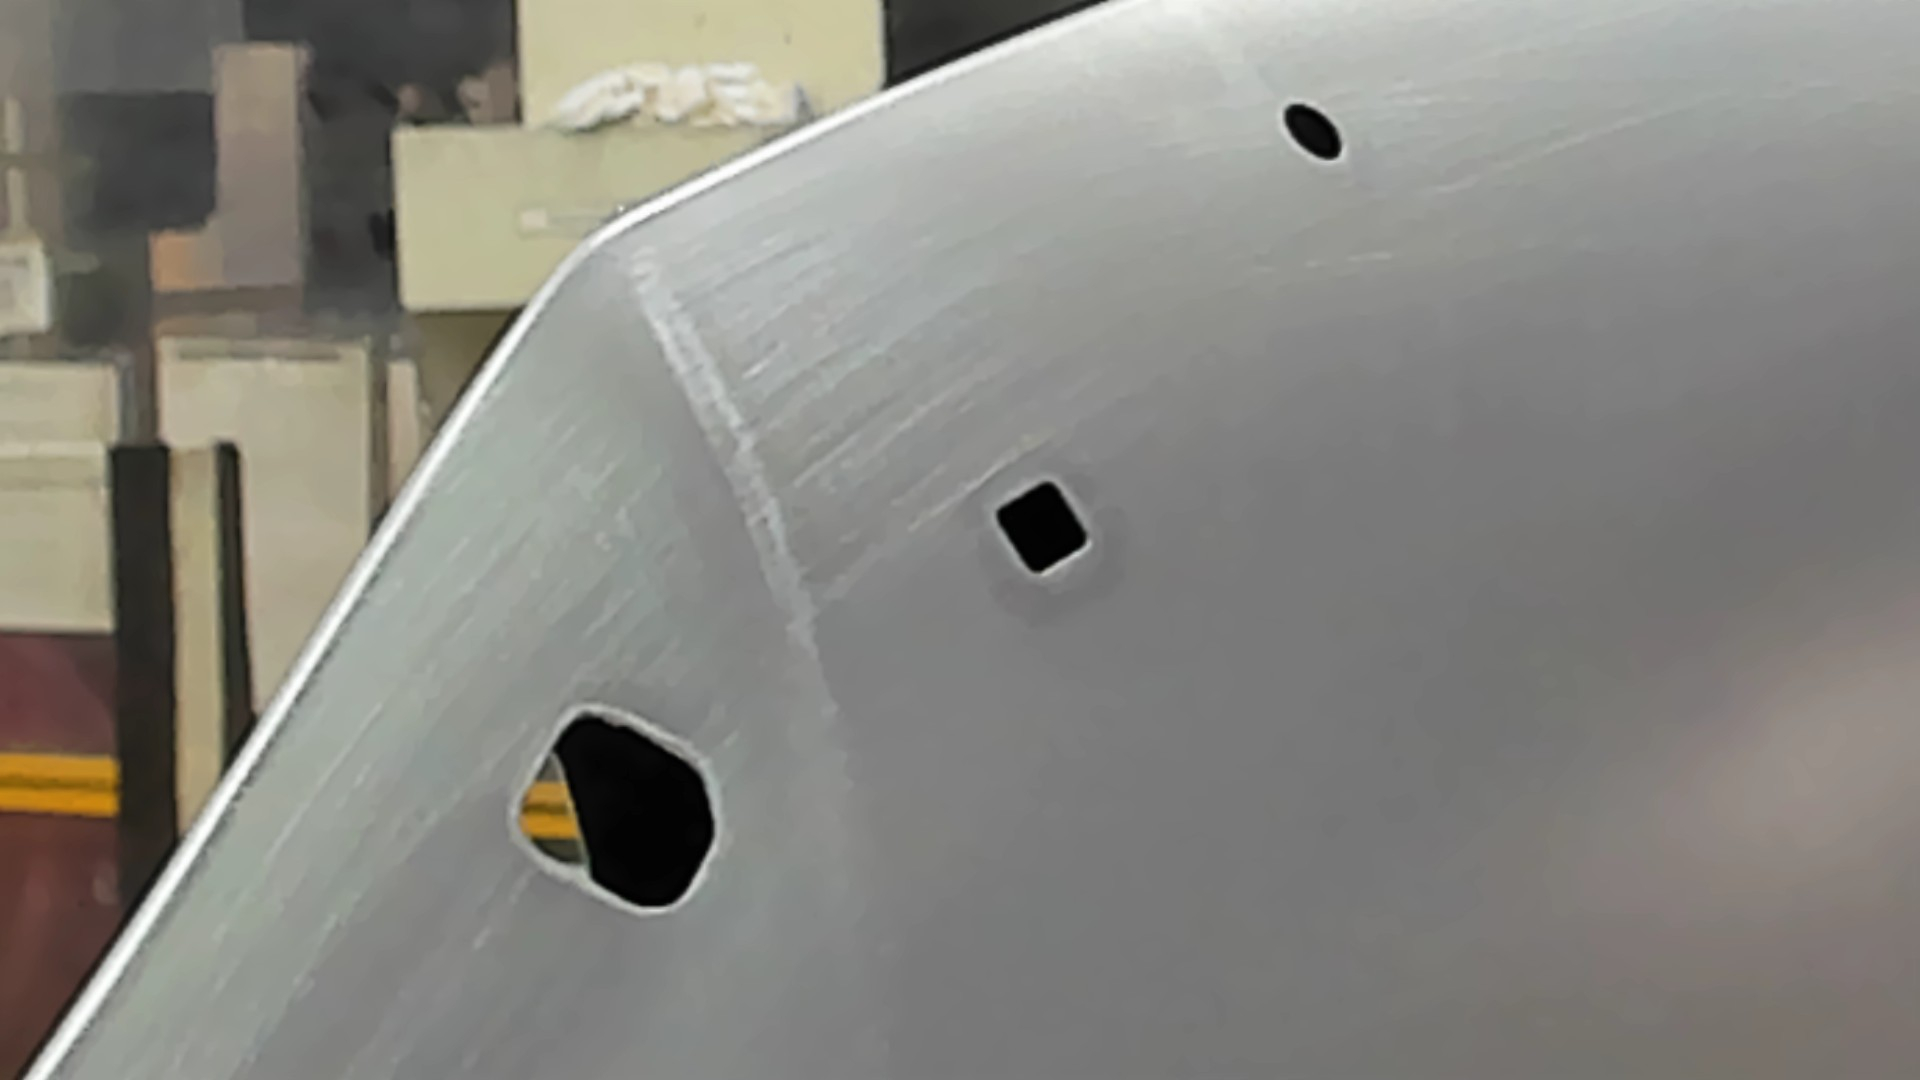capo: (1101, 166, 1920, 1080)
chico: (1276, 95, 1348, 167)
grande: (498, 692, 727, 924)
mediano: (982, 469, 1097, 585)
